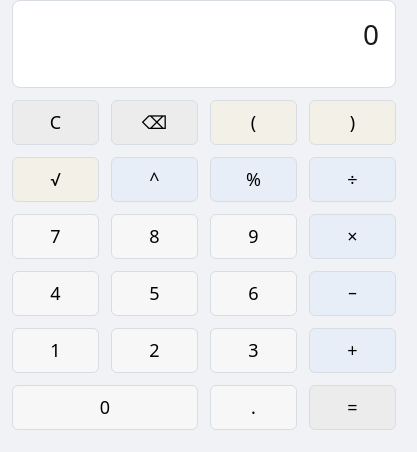
Test: Calculator › displays the result after a successful response
Click the button "2" at [154, 350], box 111,328 -> 198,373
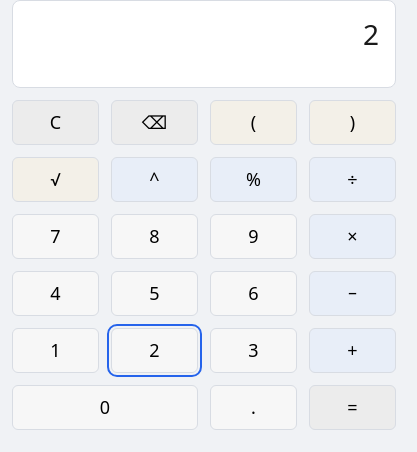
Click the button named "exponentiation" at [154, 180], box 111,157 -> 198,202
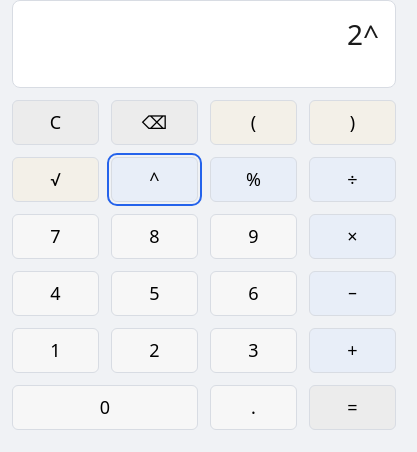
Click the button named "Subtract" at [352, 294], box 309,271 -> 396,316
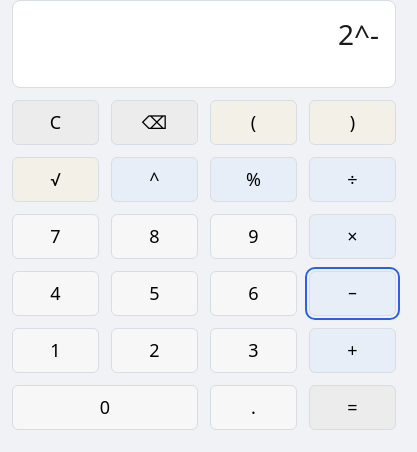
Click the button "3" at [254, 350], box 210,328 -> 297,373
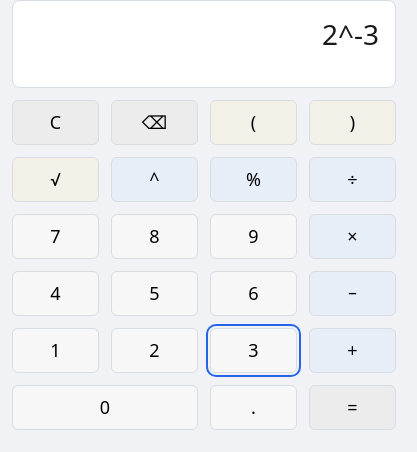
Click the button named "evaluate expression" at [352, 408], box 309,385 -> 396,430
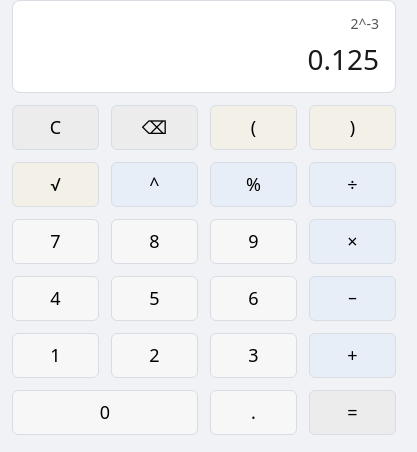
Now the text named "Display" reads "0.125", box 307,40 -> 379,78
